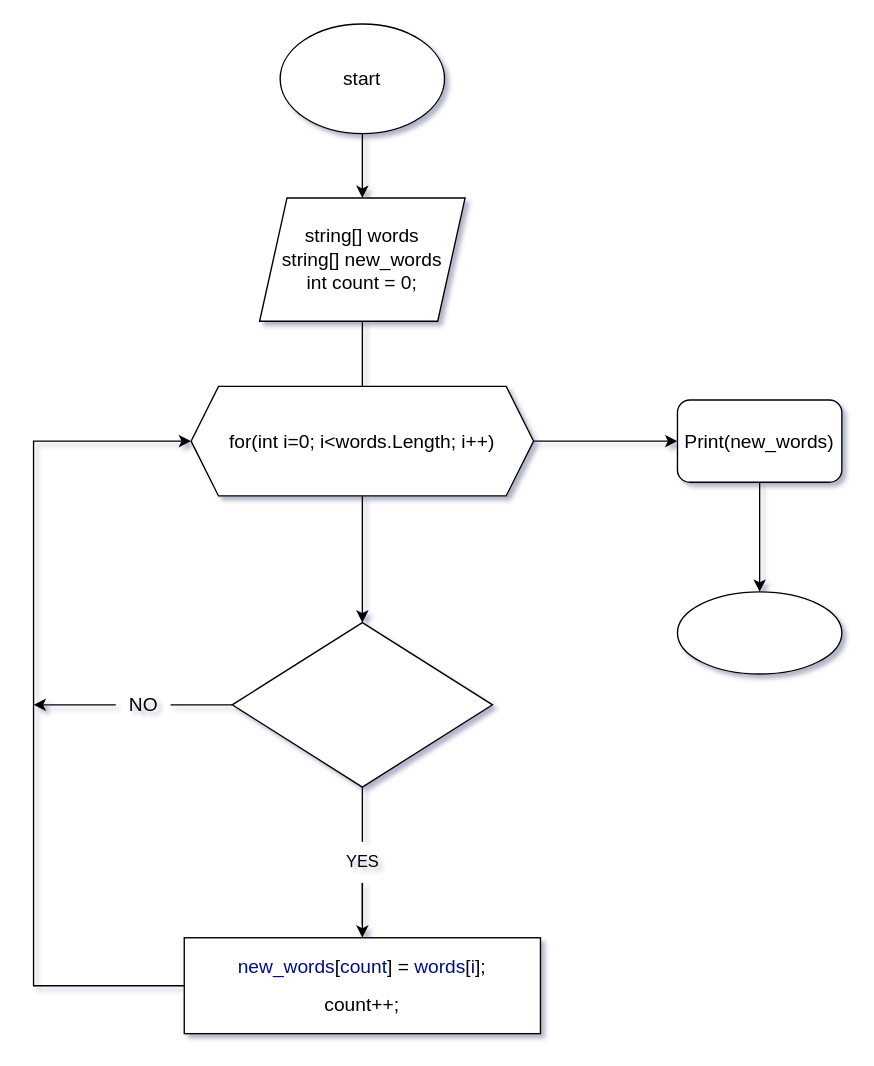
Some shapes in this 874 by 1066 pixel diagram are drawn without their labels. The box of each missing label's shape, as (x1, y1, x2, y2) in pixels:
EXIT: (676, 590, 842, 674)
if ( words [ i ]. Length <= 3 ): (231, 621, 493, 787)
